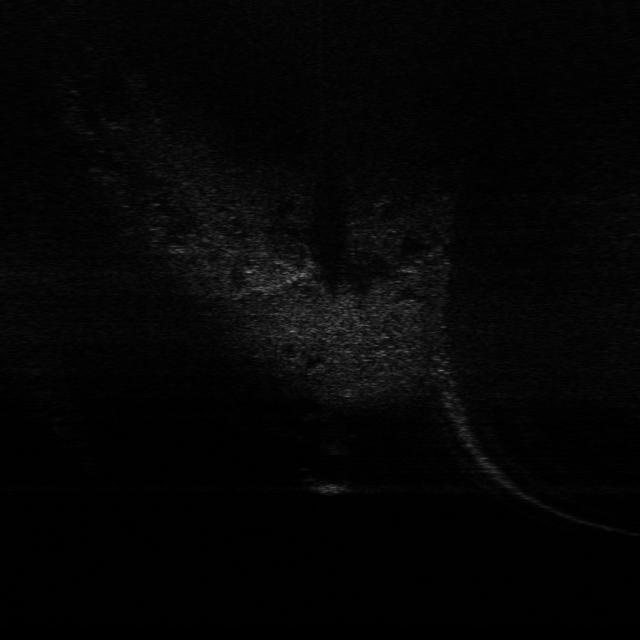cube: (300, 474, 350, 495)
